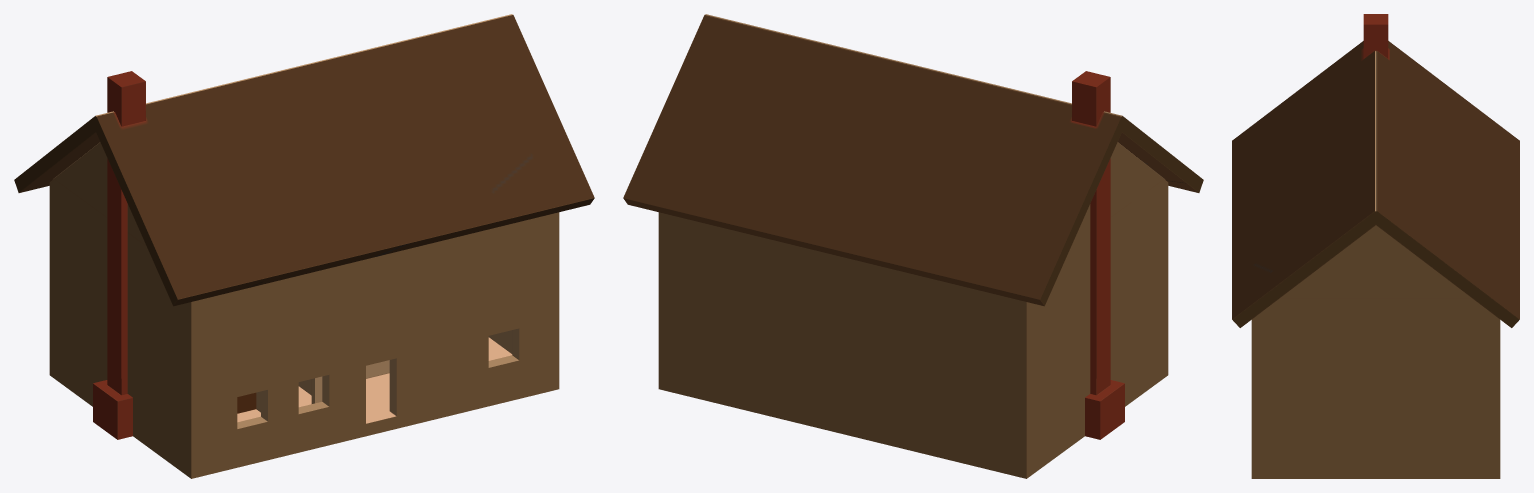
Rendered from house.fbx.
3 renders of one model, left to right at view 1: azimuth 30°, elevation 25°; view 2: azimuth 150°, elevation 25°; view 3: azimuth 270°, elevation 25°, orthographic. The views are drawn at different scales.
Visible parts, largest first — view 1: whole; view 2: whole; view 3: whole.
Part boxes in pixels (left/top/right/bottom): whole: left=14, top=14, right=594, bottom=478; whole: left=623, top=14, right=1203, bottom=478; whole: left=1232, top=14, right=1519, bottom=478.
Bounding box in the file's own units: 34 × 27 × 23.13.
Materials: 1 (1 with a texture image).
